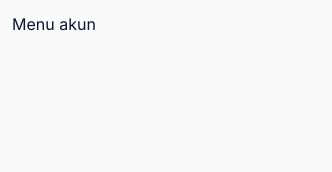
DropdownMenu › opens, moves the roving focus with ArrowDown and closes on Escape
Click the button "Menu akun" at (54, 24), box [12,12,96,36]
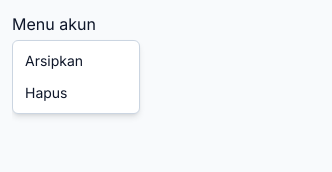
expect the menu item "Arsipkan" is shown: met, box [25,52,83,69]
Press Arrowdown
Press Arrowdown
Press Escape
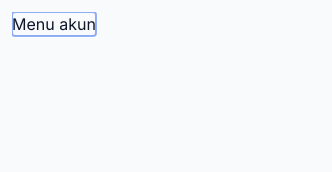
expect the menu is gone: met
